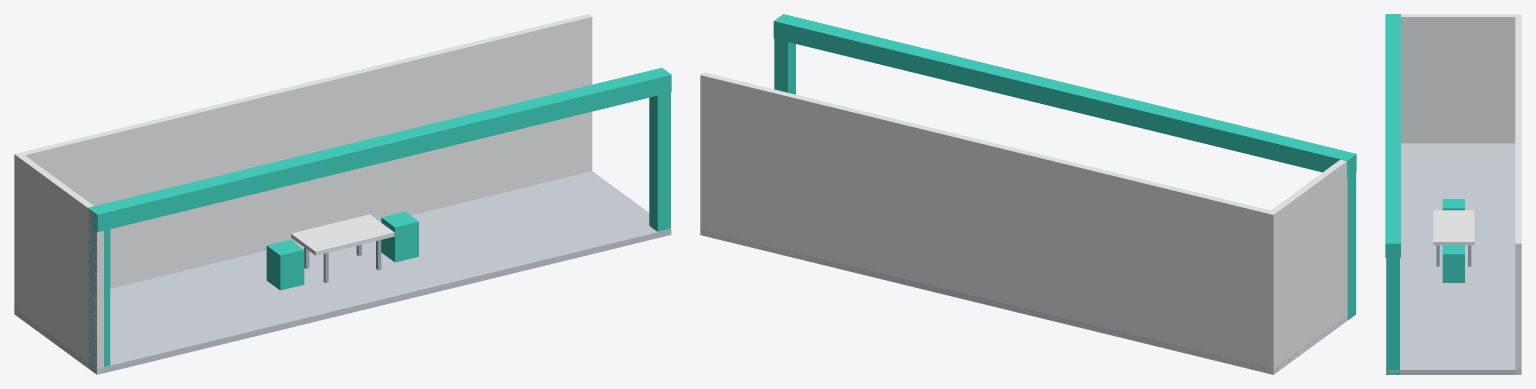
3 views of the same model, side by side, from view 1: azimuth 30°, elevation 25°; view 2: azimuth 150°, elevation 25°; view 3: azimuth 270°, elevation 25° (orthographic). The views are drawn at different scales.
Parts seen in each view (by area): view 1: Exhibition Booth Concept; view 2: Exhibition Booth Concept; view 3: Exhibition Booth Concept.
Part boxes in pixels (box(x1,y1,x2,y2)): Exhibition Booth Concept: box(14, 14, 671, 374); Exhibition Booth Concept: box(700, 14, 1356, 374); Exhibition Booth Concept: box(1385, 14, 1521, 374).
Size of the model in its own units: 12 by 3.2 by 3.01.
